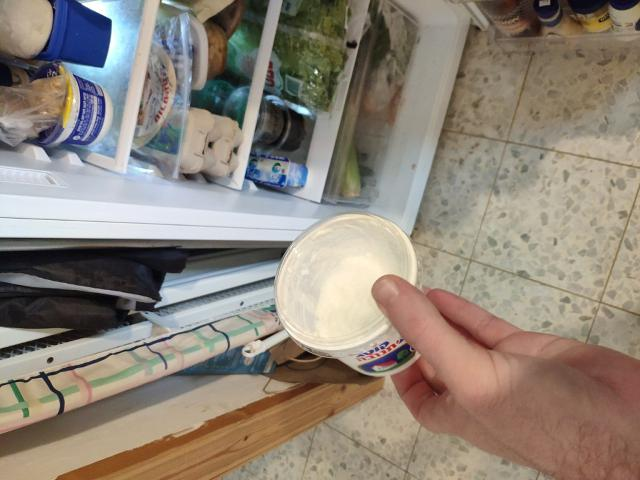cotage: (266, 212, 429, 385)
